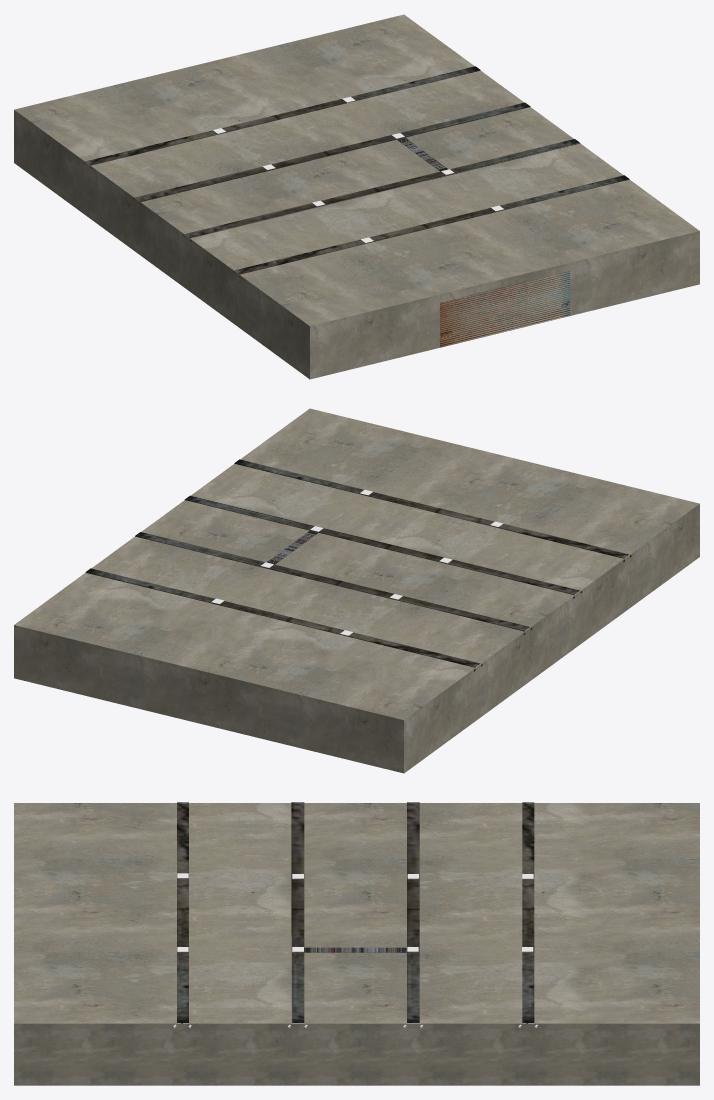
File: garage_small.glb
The picture shows the model from 3 angles, top to bottom: view 1: azimuth 30°, elevation 25°; view 2: azimuth 150°, elevation 25°; view 3: azimuth 270°, elevation 25°; orthographic projection. The views are drawn at different scales.
Parts seen in each view (by area): view 1: Cube.009_9, Cube.004_26, Cube.010_10, Cube.012_12, Cube.011_11, Cube.013_13; view 2: Cube.009_9, Cube.012_12, Cube.010_10, Cube.013_13, Cube.011_11; view 3: Cube.009_9, Cube.010_10, Cube.012_12, Cube.013_13, Cube.011_11, Cube.015_27.
Part boxes in pixels (<box>): Cube.009_9: <box>14,14,699,379</box>; Cube.004_26: <box>440,271,569,347</box>; Cube.010_10: <box>184,139,579,238</box>; Cube.012_12: <box>135,102,530,201</box>; Cube.011_11: <box>234,175,629,274</box>; Cube.013_13: <box>85,66,480,165</box>; Cube.009_9: <box>14,408,699,773</box>; Cube.012_12: <box>135,532,530,631</box>; Cube.010_10: <box>184,495,579,595</box>; Cube.013_13: <box>85,568,480,667</box>; Cube.011_11: <box>234,459,629,558</box>; Cube.009_9: <box>14,803,699,1085</box>; Cube.010_10: <box>291,802,304,1023</box>; Cube.012_12: <box>407,802,419,1023</box>; Cube.013_13: <box>522,802,534,1023</box>; Cube.011_11: <box>177,802,188,1023</box>; Cube.015_27: <box>304,947,406,952</box>.
Bounding box in the file's own units: 91.11 × 12.28 × 119.
13 materials, 12 textured.
